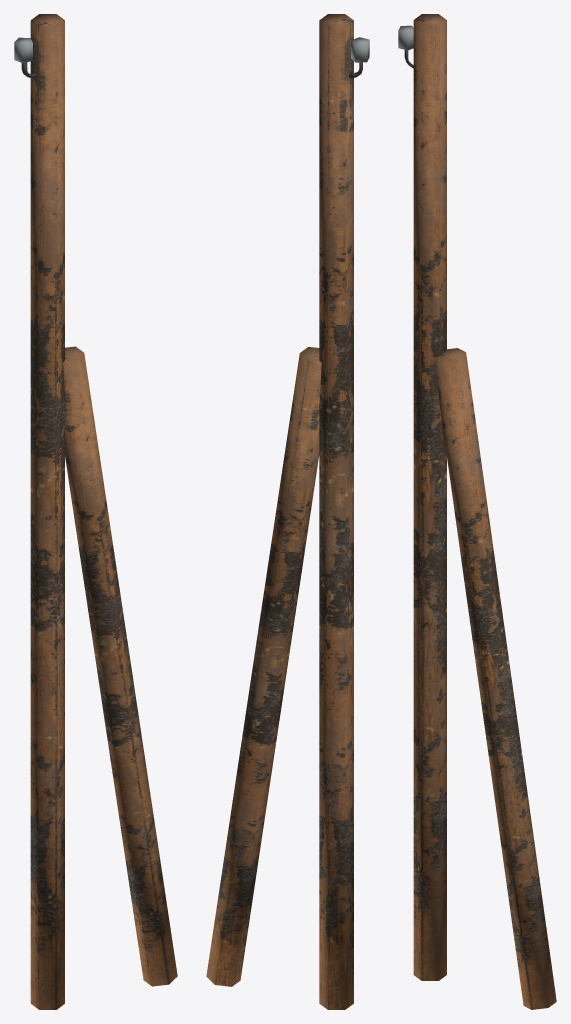
File: lep stolb.fbx
The picture shows the model from 3 angles, left to right: view 1: azimuth 30°, elevation 25°; view 2: azimuth 150°, elevation 25°; view 3: azimuth 330°, elevation 25°; orthographic projection. The views are drawn at different scales.
Visible parts, largest first — view 1: Cylinder, Cylinder.004, Cylinder.002; view 2: Cylinder, Cylinder.004, Cylinder.002; view 3: Cylinder, Cylinder.004.
Part boxes in pixels (x1,y1,x2,y2): Cylinder: (30, 14, 64, 1009); Cylinder.004: (63, 346, 177, 986); Cylinder.002: (14, 37, 32, 63); Cylinder: (319, 14, 353, 1009); Cylinder.004: (206, 347, 321, 986); Cylinder.002: (351, 37, 369, 62); Cylinder: (413, 14, 446, 980); Cylinder.004: (435, 348, 556, 1009).
Size of the model in its own units: 339 by 2029 by 65.05.
3 materials, 1 textured.
